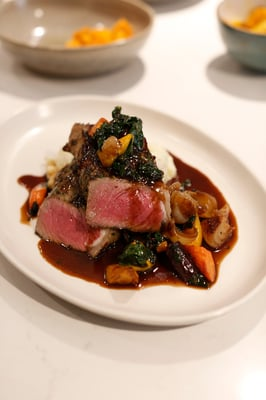curry: (94, 106, 165, 184), (117, 239, 157, 268)
sushi: (1, 0, 155, 79), (216, 0, 266, 74)
